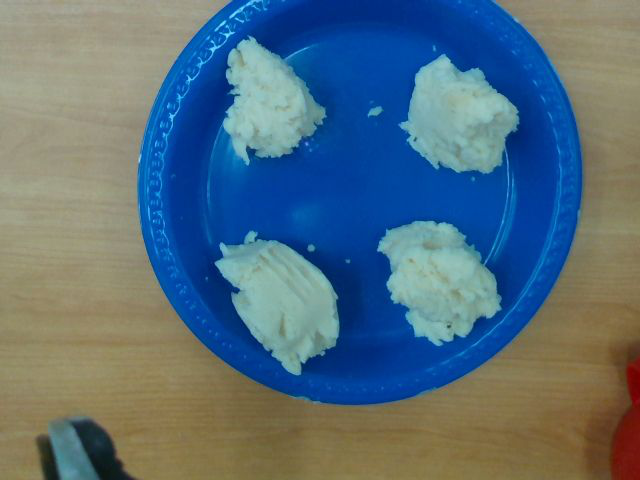mashed_potato: (214, 232, 340, 375), (376, 221, 501, 344), (402, 54, 518, 172), (223, 35, 326, 158)
